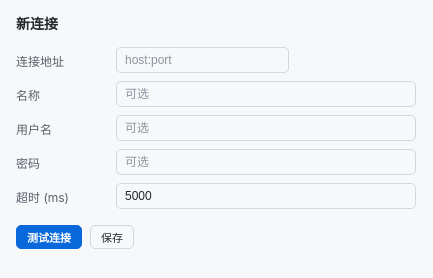
Test: ConnectionDetail › validates connectionString is required
The image size is (433, 278).
What coordinates should you click on to do the following:
click the button "测试连接"
I would click on:
 (49, 237)
Its box is [16, 225, 82, 249].
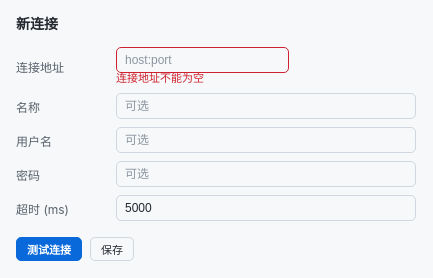
Expected: the text "连接地址不能为空" is shown, [116, 71, 204, 85]
